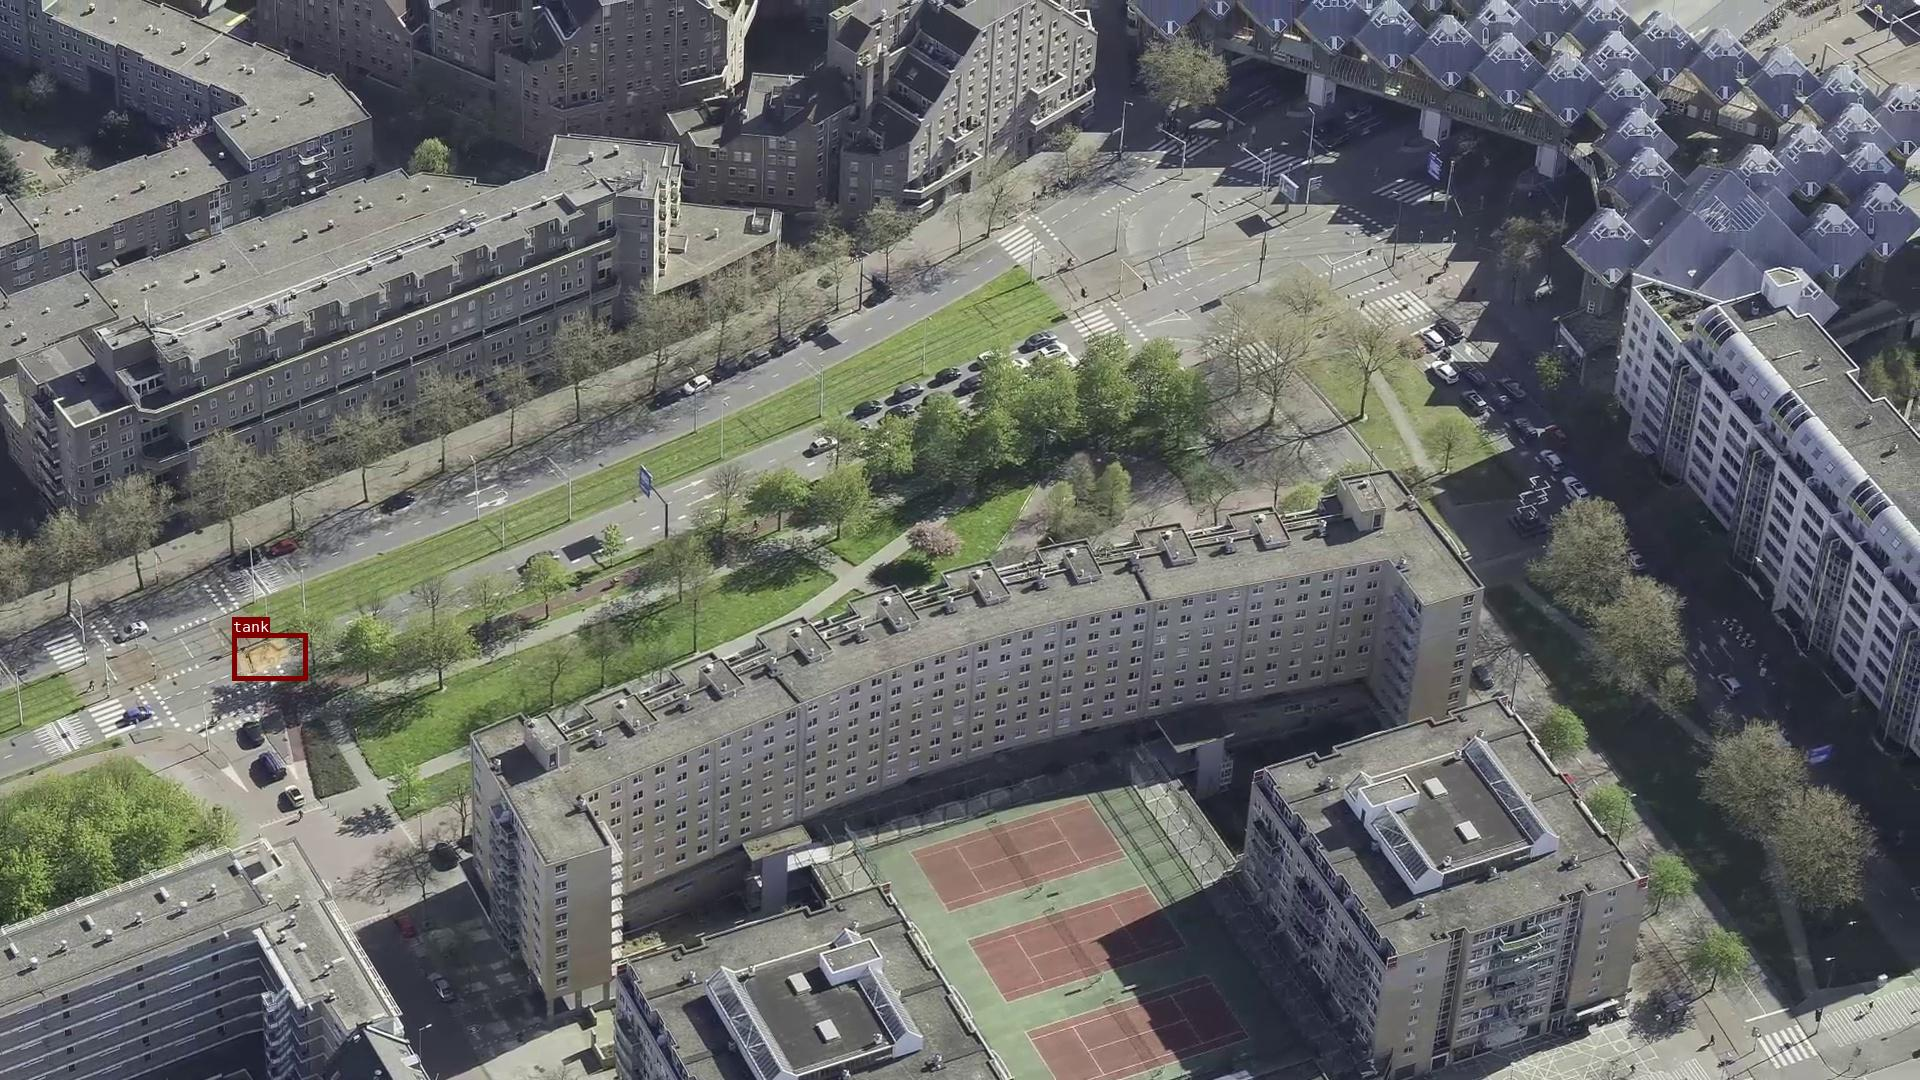tank: (232, 633, 307, 680)
